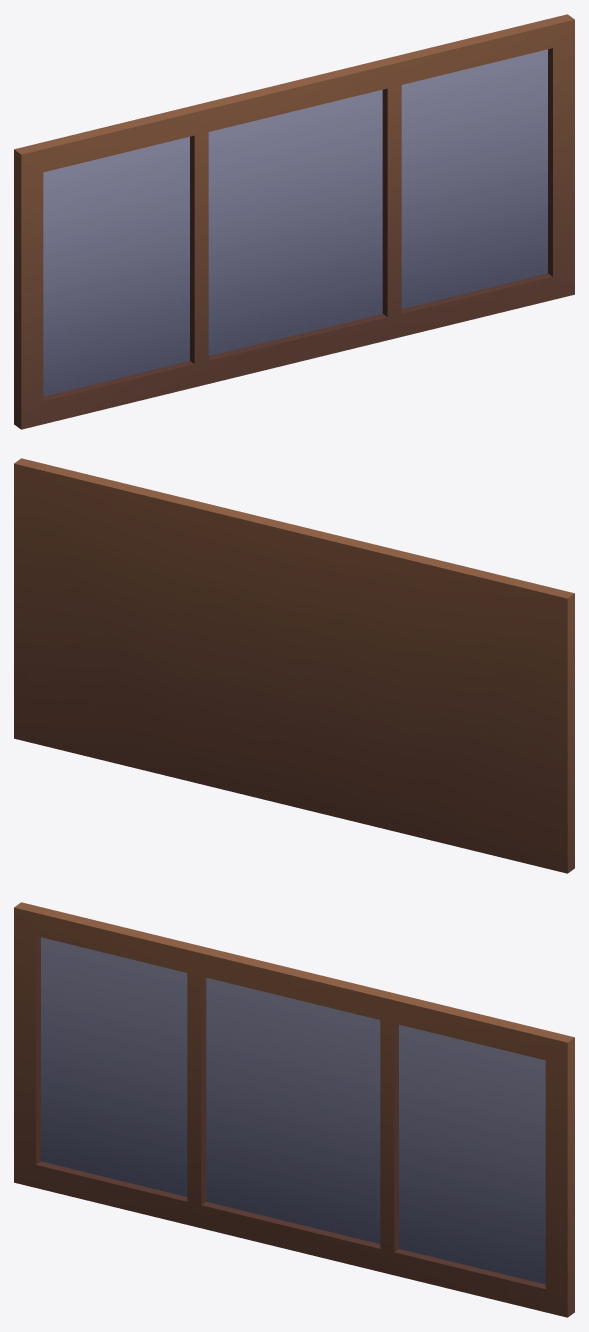
The model's file is M_window.FBX.
3 views of the same model, one above another, from view 1: azimuth 30°, elevation 25°; view 2: azimuth 150°, elevation 25°; view 3: azimuth 330°, elevation 25° (orthographic).
Parts seen in each view (by area): view 1: Box016; view 2: Box016; view 3: Box016.
Part boxes in pixels (box(x1,y1,x2,y2)): Box016: box(14, 14, 574, 429); Box016: box(14, 458, 574, 873); Box016: box(14, 902, 574, 1317).
Bounding box in the file's own units: 209 × 4.79 × 99.3.
